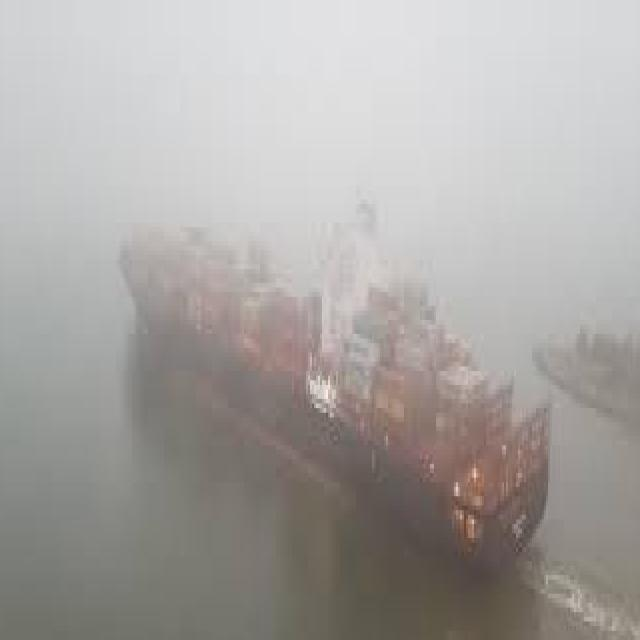cargoship: (117, 173, 556, 561), (540, 292, 640, 436)
